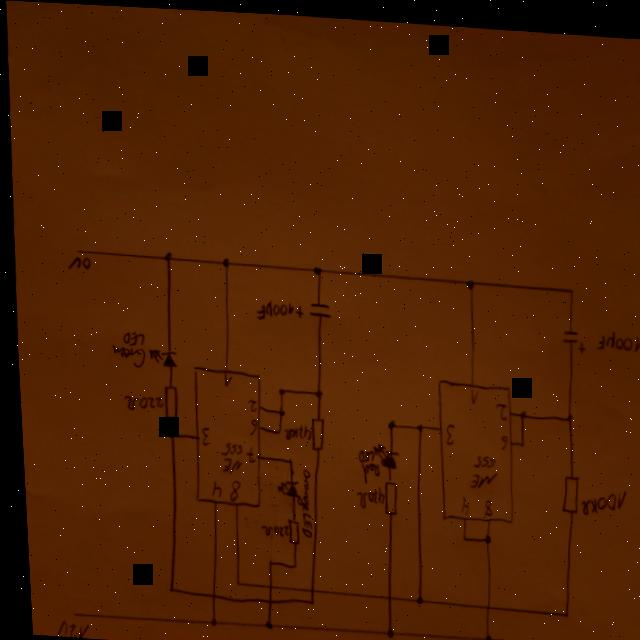capacitor: (292, 297, 329, 319), (559, 324, 583, 349)
crossover: (478, 599, 486, 608), (379, 590, 387, 598), (204, 590, 211, 598), (261, 581, 268, 588), (261, 595, 267, 603), (303, 584, 309, 592)
diode: (368, 439, 395, 466), (144, 345, 174, 367), (272, 477, 294, 496)
junction: (462, 274, 473, 286), (310, 262, 320, 273), (379, 624, 388, 635), (161, 250, 170, 261), (383, 416, 392, 427), (409, 592, 418, 602), (258, 618, 267, 628), (163, 429, 172, 439), (478, 529, 486, 540), (274, 384, 282, 394), (219, 256, 227, 266), (412, 419, 420, 429), (516, 404, 523, 415), (311, 387, 319, 395), (274, 406, 281, 415), (563, 408, 569, 418), (229, 578, 236, 586), (204, 617, 211, 625), (479, 630, 485, 639), (162, 586, 169, 593), (455, 531, 462, 538), (566, 282, 572, 290), (261, 558, 268, 564), (515, 436, 522, 442), (272, 427, 278, 433), (558, 607, 563, 614), (304, 597, 309, 604), (287, 561, 292, 567), (284, 456, 288, 463)
resistor: (555, 469, 576, 510), (305, 413, 323, 449), (377, 476, 394, 514), (159, 383, 175, 419), (282, 516, 295, 545)
terminal: (71, 248, 78, 255), (65, 611, 71, 618)
text: (575, 482, 622, 512), (107, 329, 143, 368), (291, 467, 308, 536), (592, 325, 640, 347), (464, 451, 494, 484), (253, 297, 292, 319), (353, 446, 375, 481), (215, 440, 239, 471), (119, 393, 160, 411), (351, 483, 380, 507), (49, 619, 82, 638), (279, 422, 308, 439), (255, 522, 284, 535), (65, 256, 88, 271), (225, 478, 236, 501), (441, 420, 451, 442), (196, 425, 206, 445), (206, 479, 217, 497), (456, 492, 465, 512), (241, 444, 251, 462), (492, 399, 503, 415), (478, 494, 487, 513), (245, 417, 253, 434), (466, 385, 475, 400), (496, 430, 504, 446), (220, 371, 228, 386), (243, 398, 252, 410)
